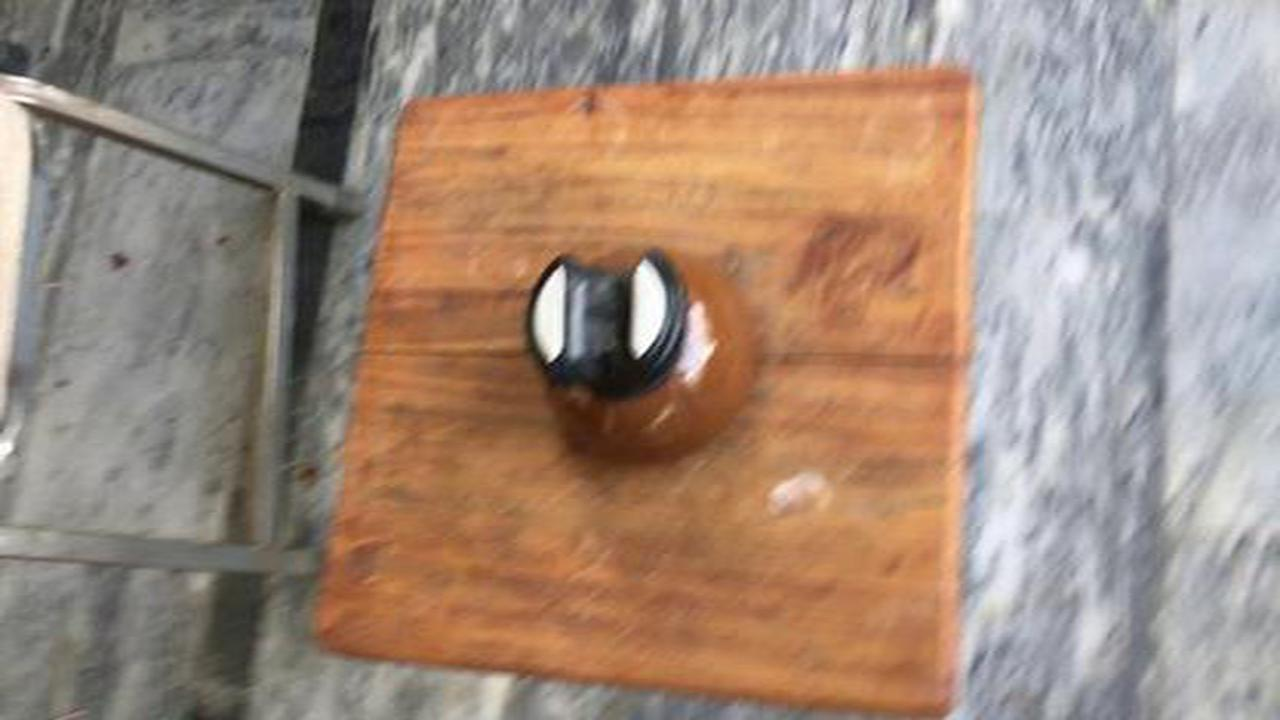insulator_pin: (502, 231, 773, 480)
